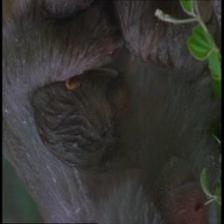monkey: (34, 61, 140, 173), (142, 147, 220, 223)
